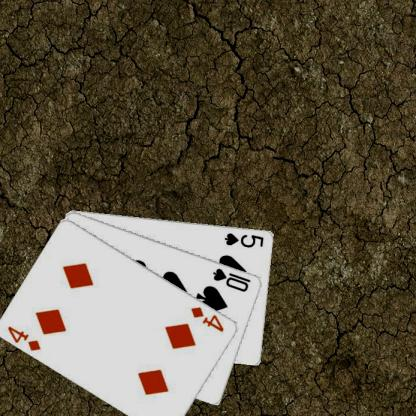10S: (210, 266, 252, 293)
4D: (188, 304, 226, 333), (6, 323, 42, 353)
5S: (223, 230, 266, 248)
